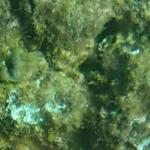dead: (3, 1, 145, 146)
